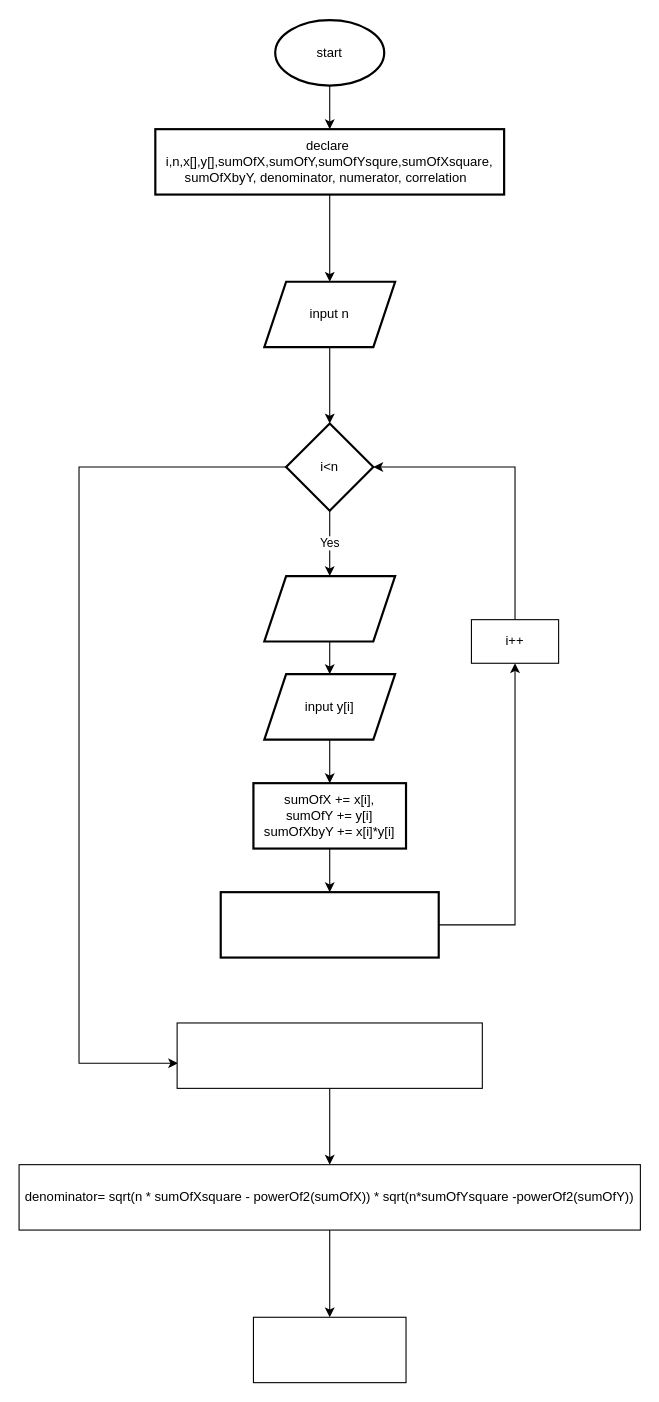
The diagram is 659 pixels wide and 1402 high, and some of its shapes have lost their labels. Here are the shapes that lost their labels. From the top down, the centre of each, then its label:
the point at 329,608: input x[i]
the point at 329,924: sumOfXsqure += powerOf2(x[i]), sumOfYsquare +=powrOf2(y[i])
the point at 329,1055: numerator = n*sumOfXbyY- sumOfY * sumOfY
the point at 329,1349: correlation = numerator/denominator
